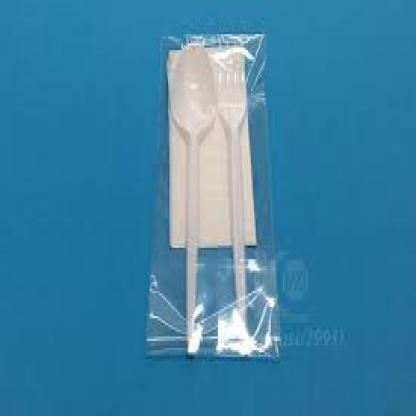Others: (171, 40, 251, 352)
